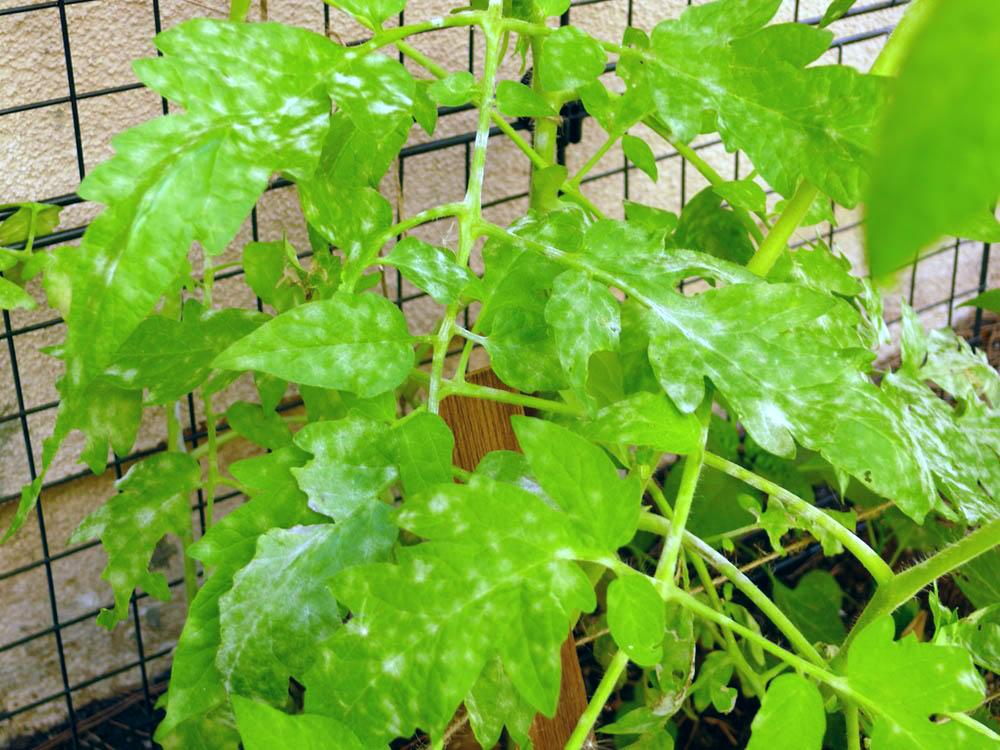Tomato mold leaf: (0, 33, 359, 517), (549, 217, 929, 528), (315, 414, 654, 735), (599, 2, 924, 192), (187, 289, 434, 394), (398, 236, 490, 307)
